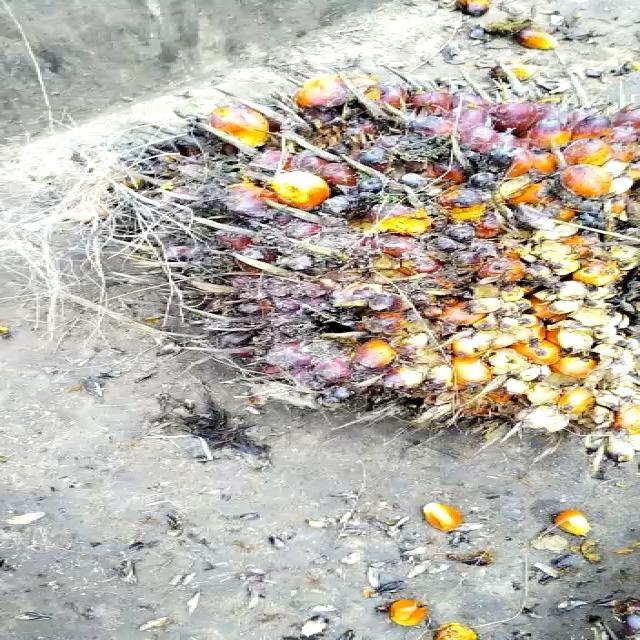palm oil: (63, 67, 640, 460)
